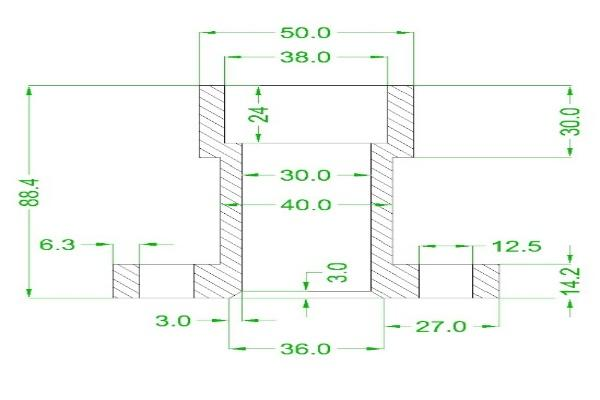dimensions: (277, 336, 336, 360), (275, 17, 332, 41), (276, 192, 338, 214), (279, 162, 335, 186), (554, 264, 586, 306), (556, 102, 589, 141), (277, 46, 335, 68), (412, 316, 473, 336), (144, 309, 195, 331), (490, 236, 546, 256), (325, 256, 356, 290), (16, 174, 43, 211), (34, 237, 84, 254), (243, 101, 274, 128)
